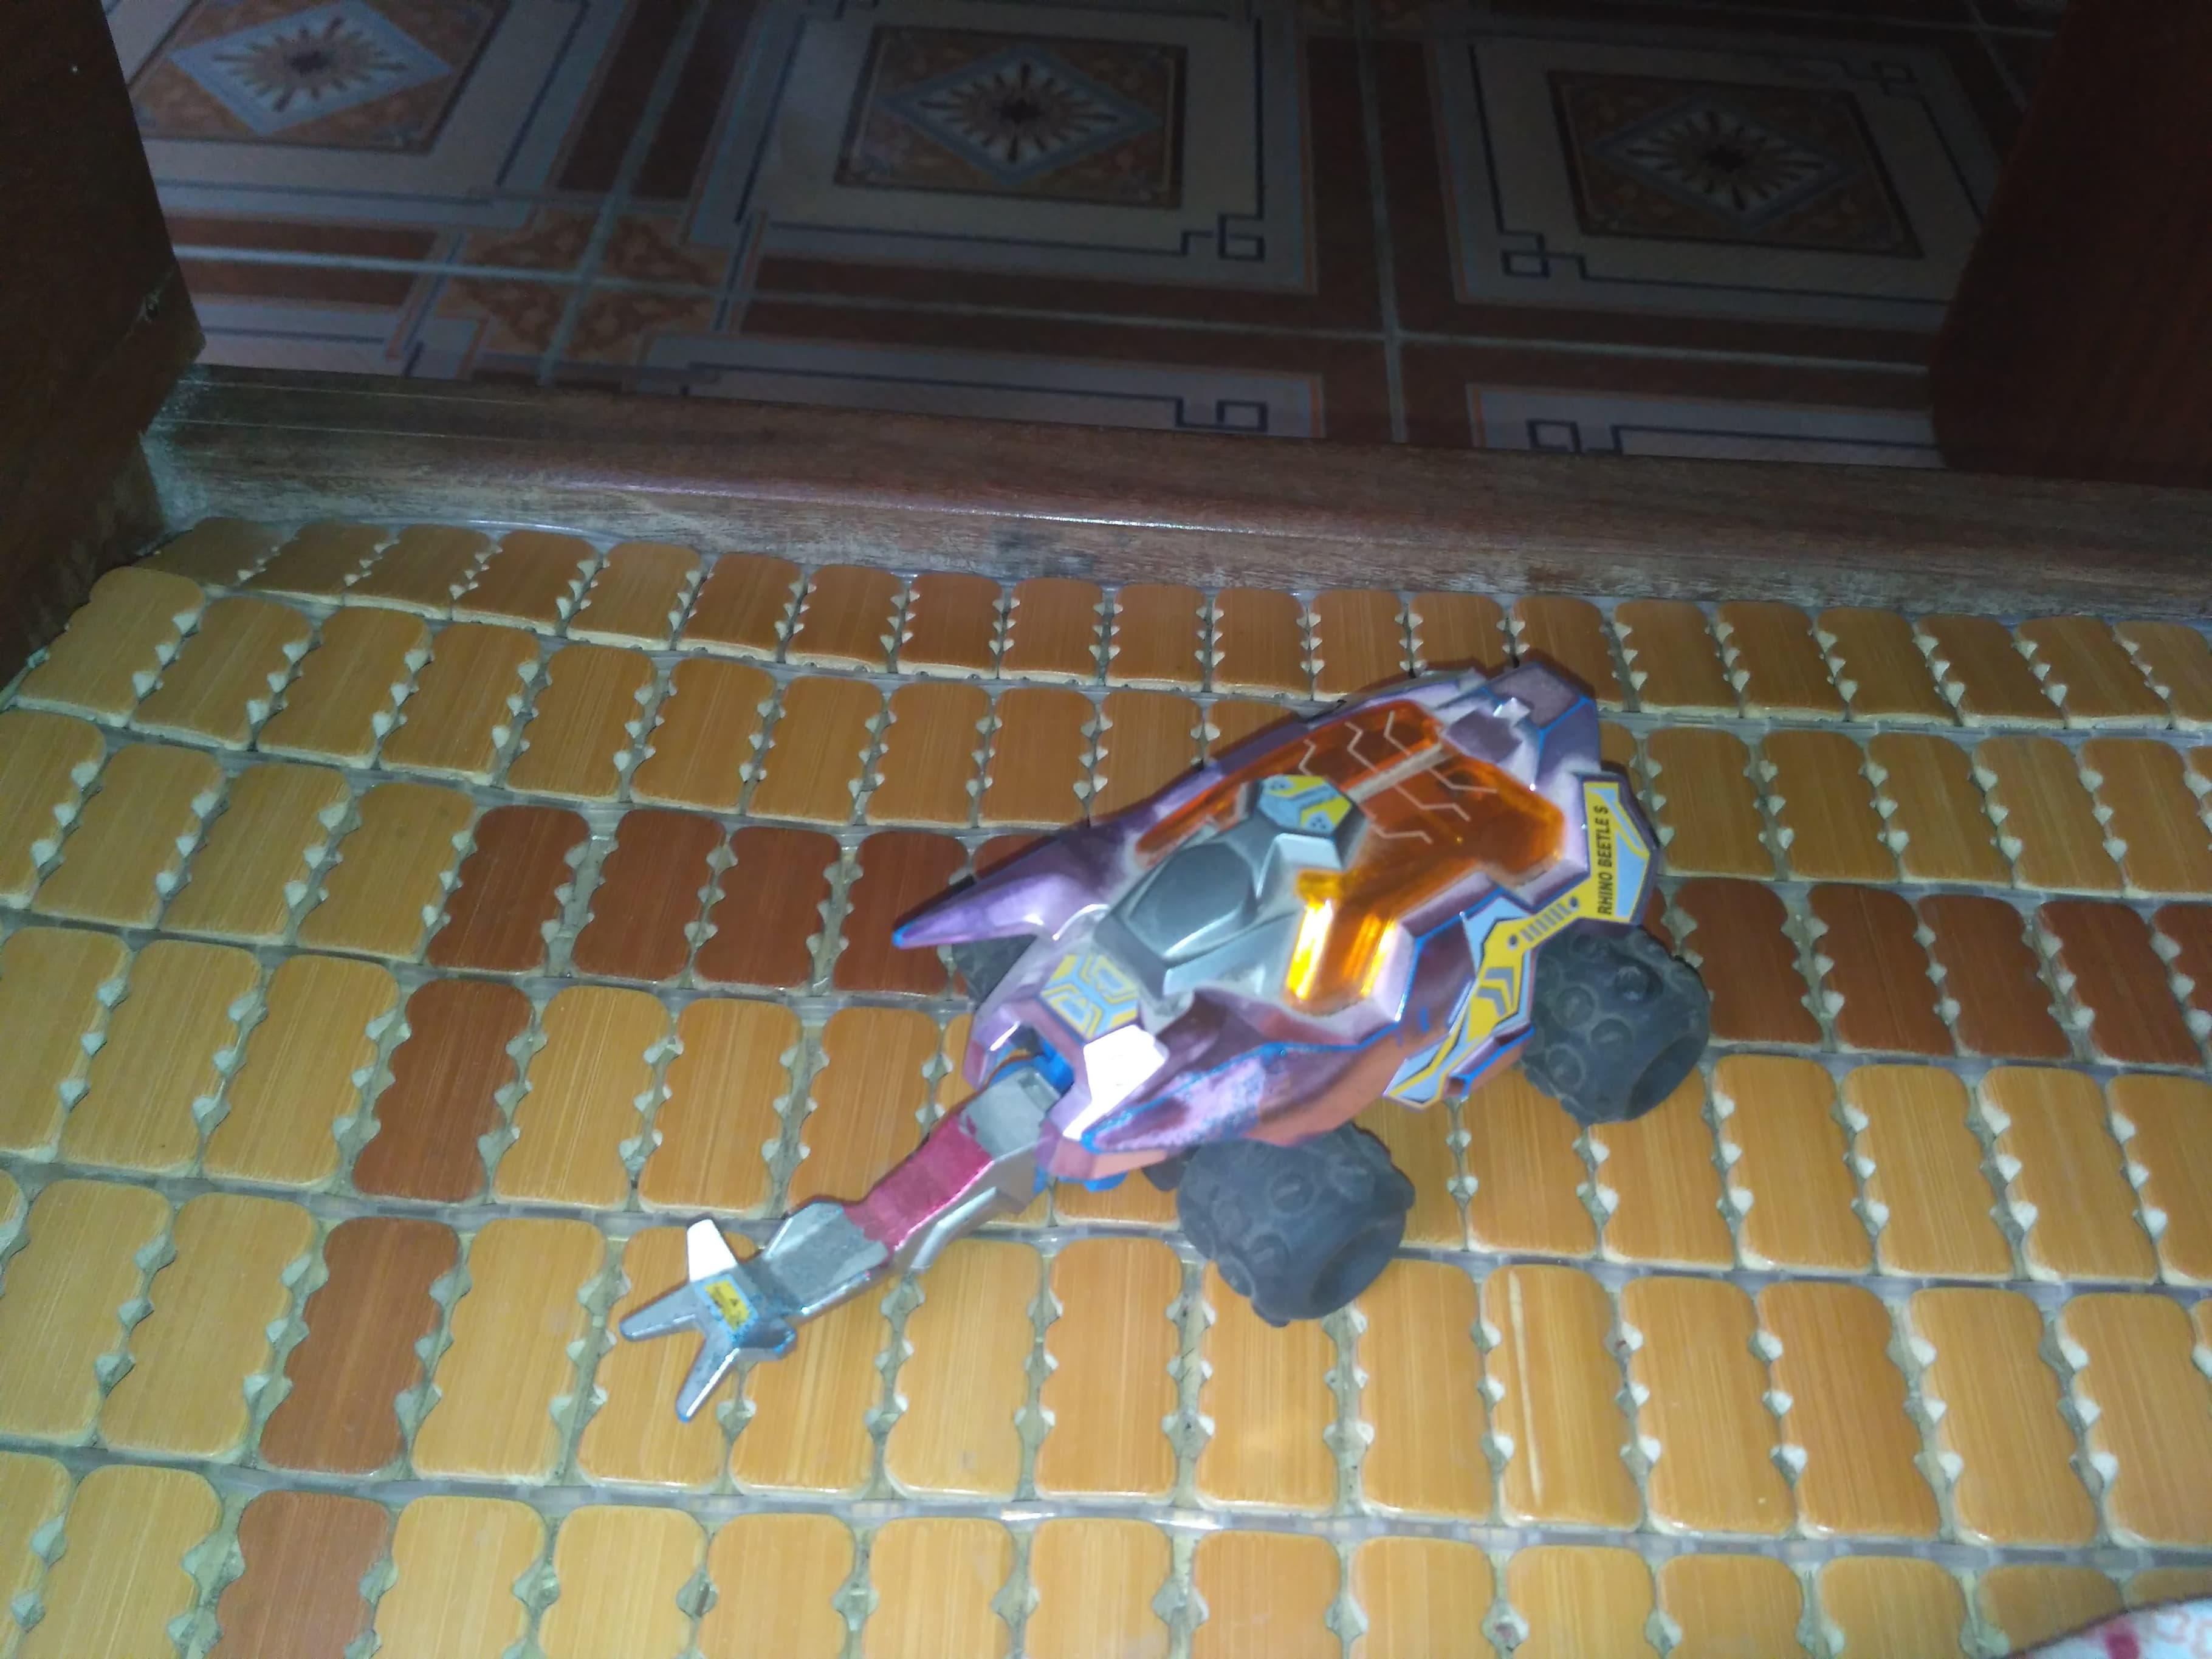rhino: (596, 648, 1733, 1427)
